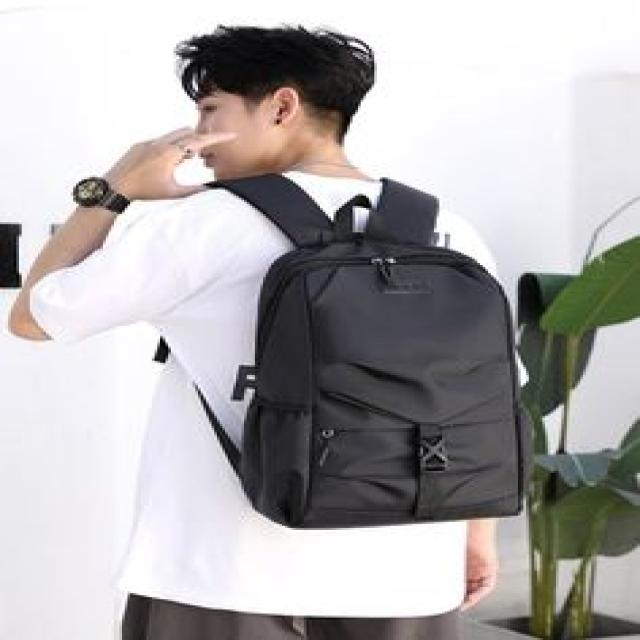Handbag: (241, 220, 542, 533)
